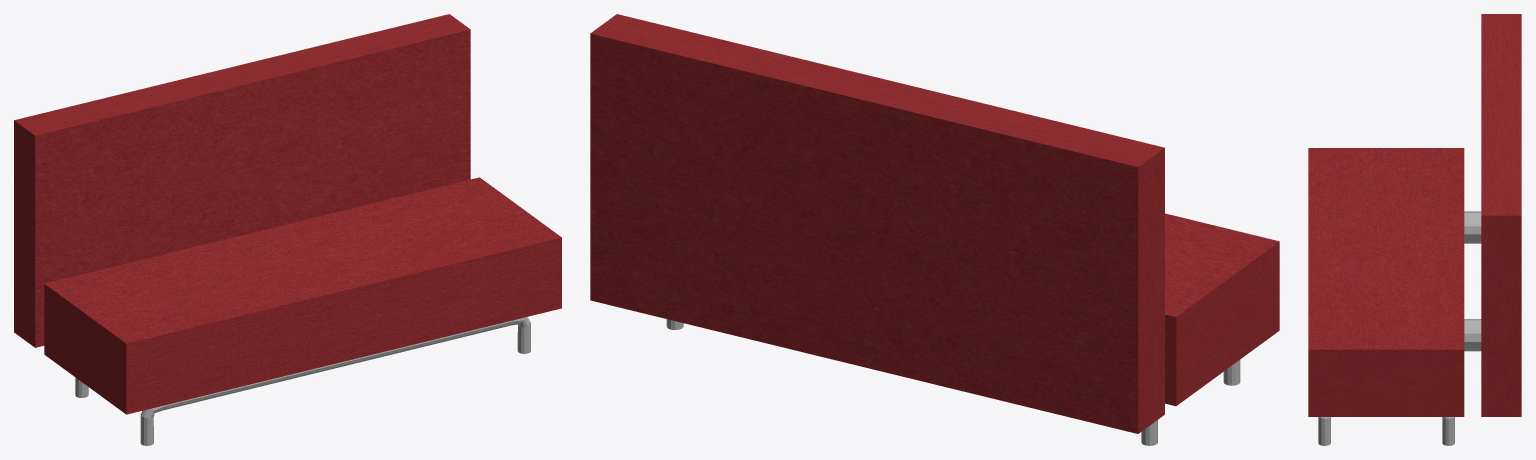
File: Banco.fbx
3 renders of one model, left to right at view 1: azimuth 30°, elevation 25°; view 2: azimuth 150°, elevation 25°; view 3: azimuth 270°, elevation 25°, orthographic. The views are drawn at different scales.
Parts seen in each view (by area): view 1: Banquito, Banquito_1, Patas_Banco; view 2: Banquito, Banquito_1, Patas_Banco; view 3: Banquito_1, Banquito, Union_Banco, Patas_Banco.
Boxes of the visible parts, x1,y1,x2,y2 form: Banquito: [14, 14, 470, 347]; Banquito_1: [44, 177, 561, 414]; Patas_Banco: [75, 317, 530, 445]; Banquito: [590, 14, 1164, 433]; Banquito_1: [1165, 213, 1279, 406]; Patas_Banco: [666, 319, 1240, 445]; Banquito_1: [1308, 148, 1464, 416]; Banquito: [1481, 14, 1521, 416]; Union_Banco: [1464, 211, 1481, 351]; Patas_Banco: [1318, 417, 1454, 445].
Size of the model in its own units: 200 by 111 by 89.41.
2 materials, 1 textured.
